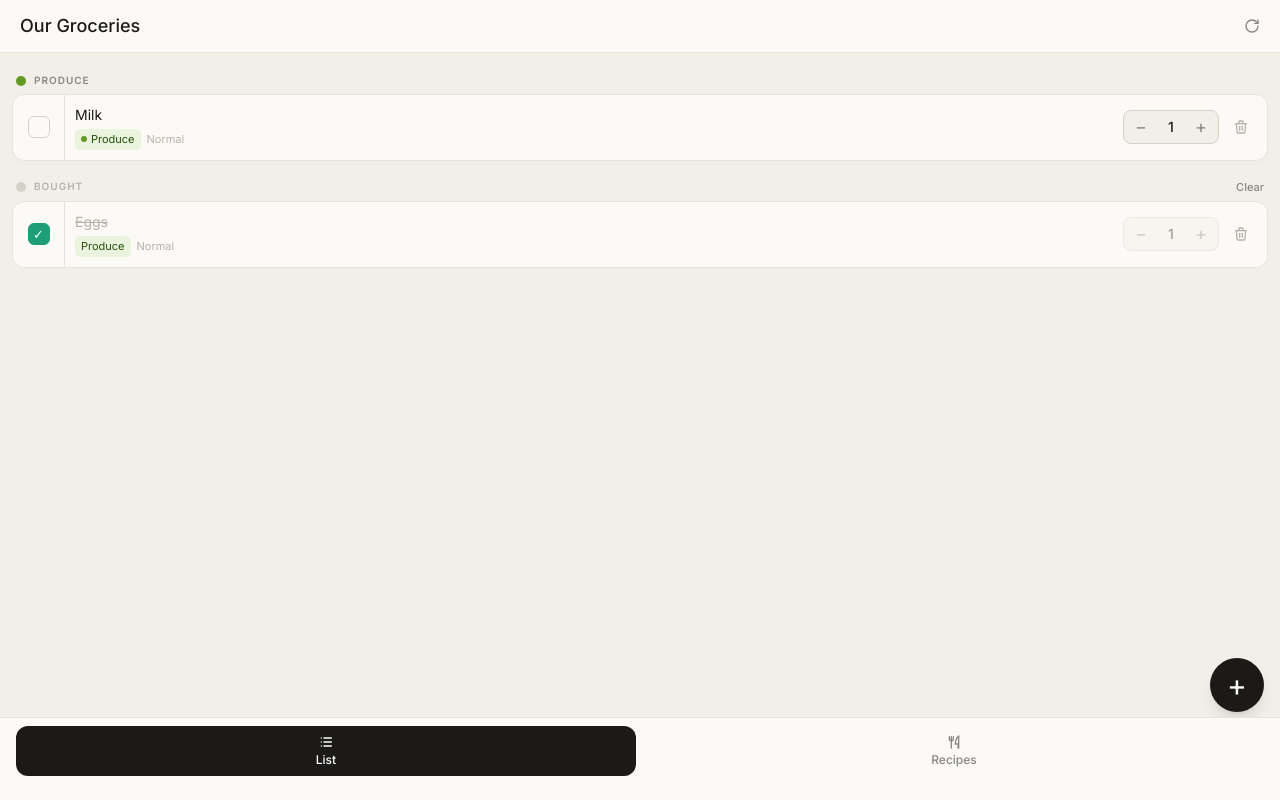
Test case: page.tsx › "Clear" on the Bought section removes bought items from view and clears them
Expected: the text "Eggs" is shown, x1=75 y1=213 x2=108 y2=230
Step 1. Click the button "Clear" → (1250, 187), box x1=1236 y1=178 x2=1264 y2=195
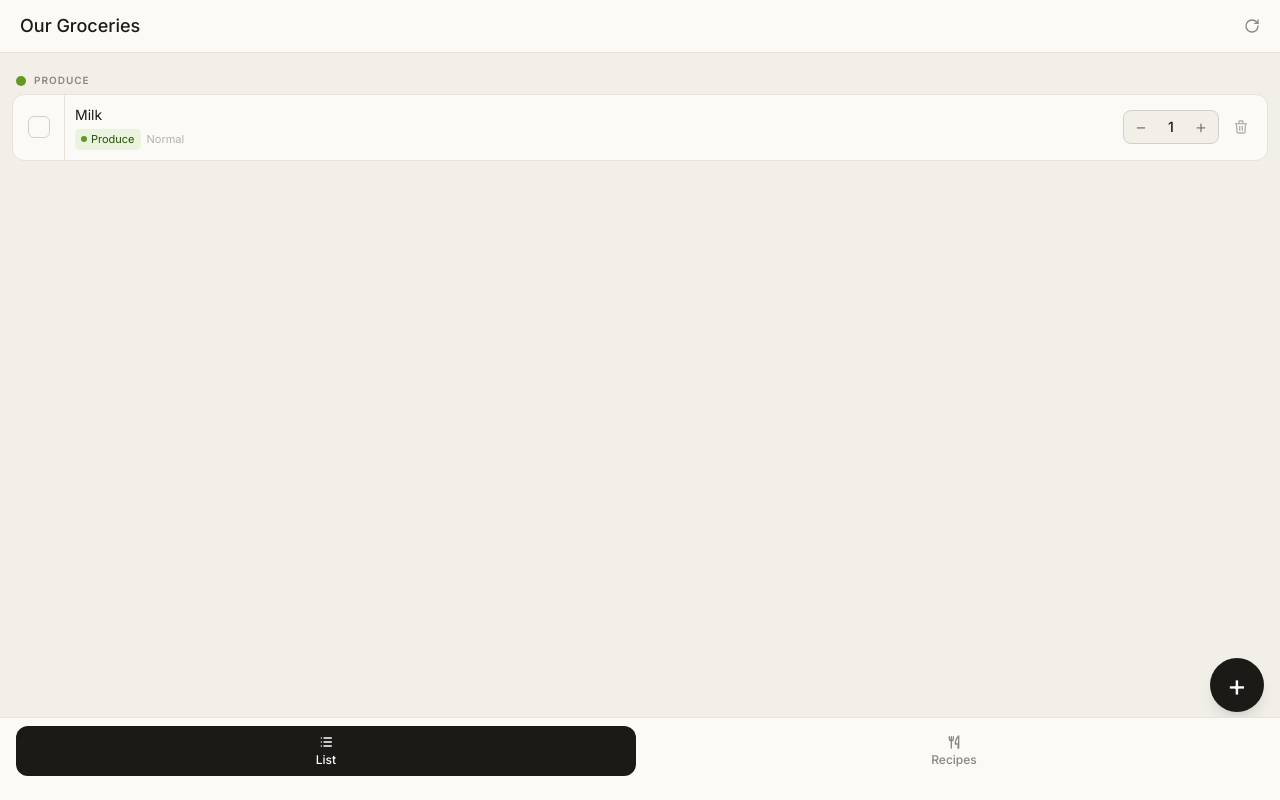
Expected: the text "Milk" is shown, x1=75 y1=106 x2=102 y2=123
Expected: the button "Eggs" is gone
